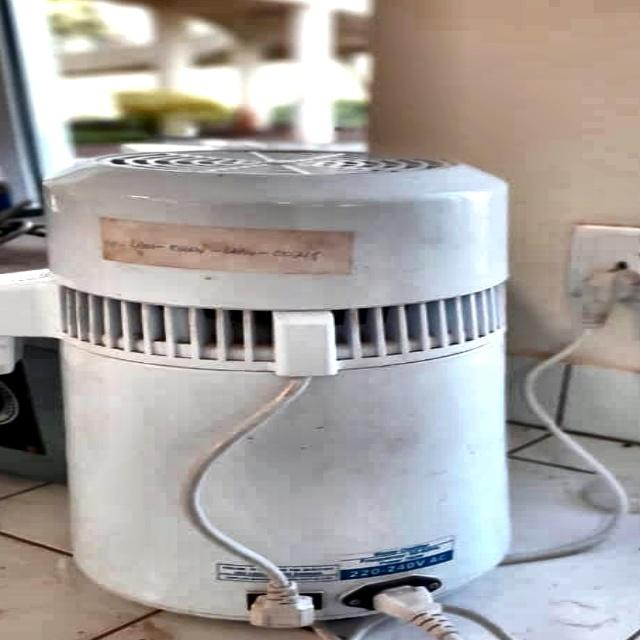Distilled Water Maker: (32, 145, 544, 638)
